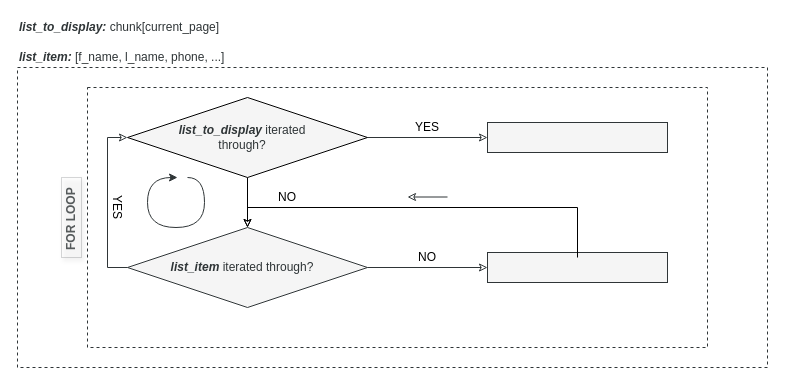
This 785x385 diagram has some shape labels left out. Here are the shapes that lost their labels. From the top down, the centre of each, then its label:
[577,137]: END
[577,267]: DISPLAY list_item
